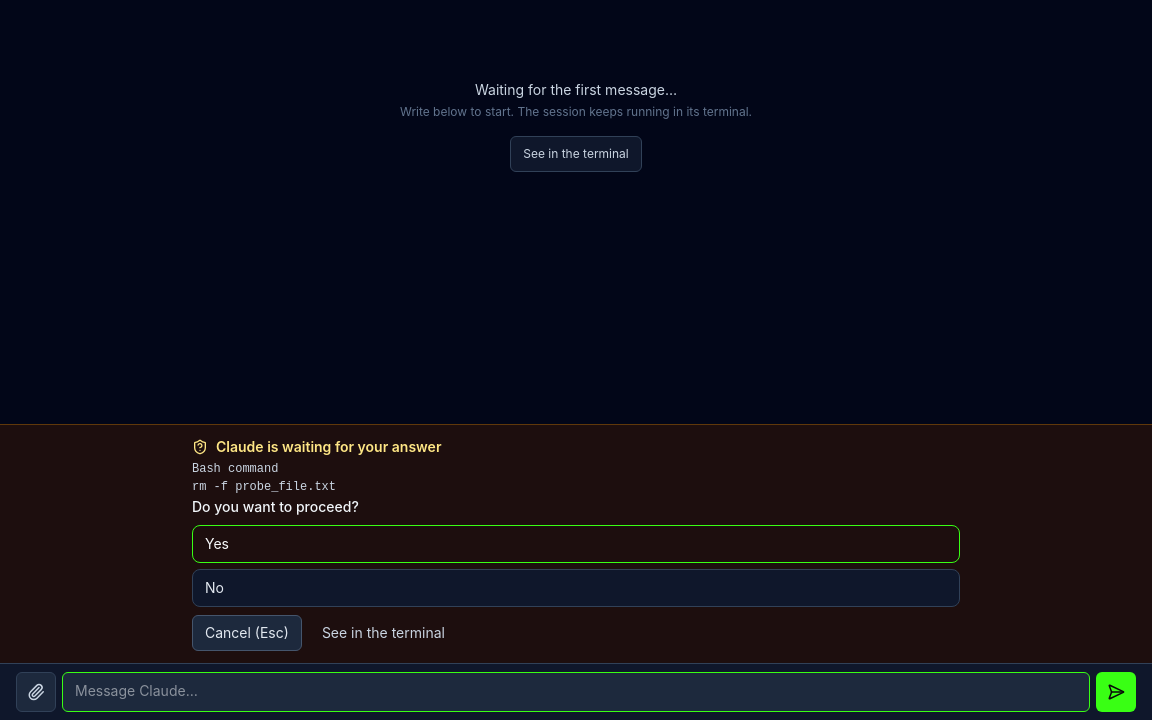
Test case: ChatView › answers a menu on the screen with arrows and Enter
This screenshot has width=1152, height=720.
Check: the message shows "Do you want to proceed?", box [192,498,359,515]
Click the button "No" at [214, 588], box [192,569,960,607]
Wait 700 ms
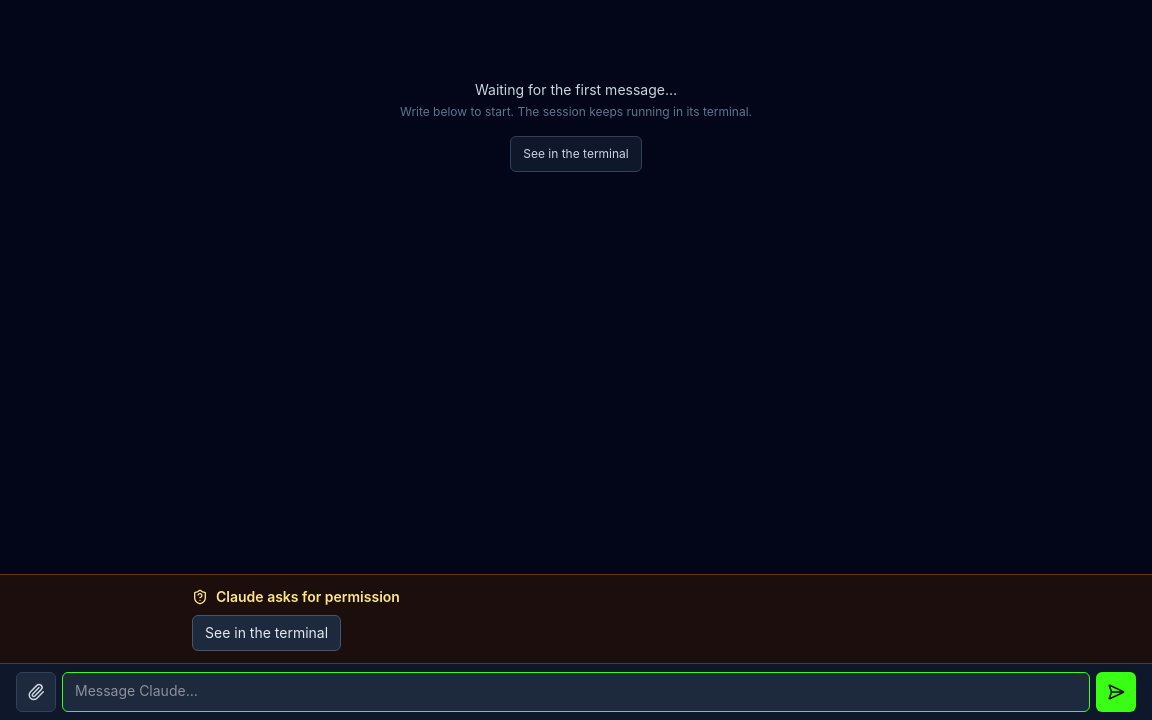
Check: the text "Do you want to proceed?" is gone
